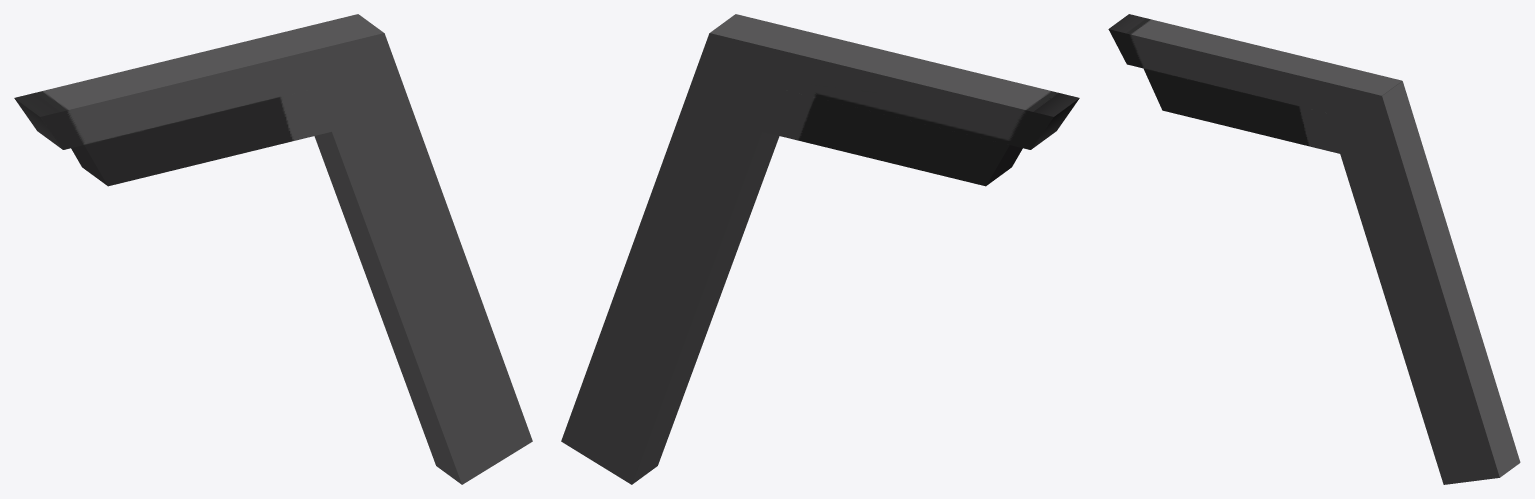
File: Light_5.fbx
3 views of the same model, side by side, from view 1: azimuth 30°, elevation 25°; view 2: azimuth 150°, elevation 25°; view 3: azimuth 330°, elevation 25° (orthographic). The views are drawn at different scales.
Visible parts, largest first — view 1: node_id5; view 2: node_id5; view 3: node_id5.
Boxes of the visible parts, <box> form: node_id5: <box>14,14,532,484</box>; node_id5: <box>561,14,1079,484</box>; node_id5: <box>1108,14,1520,484</box>.
Bounding box in the file's own units: 0.512 × 0.4675 × 0.0468.
1 material, 1 textured.
